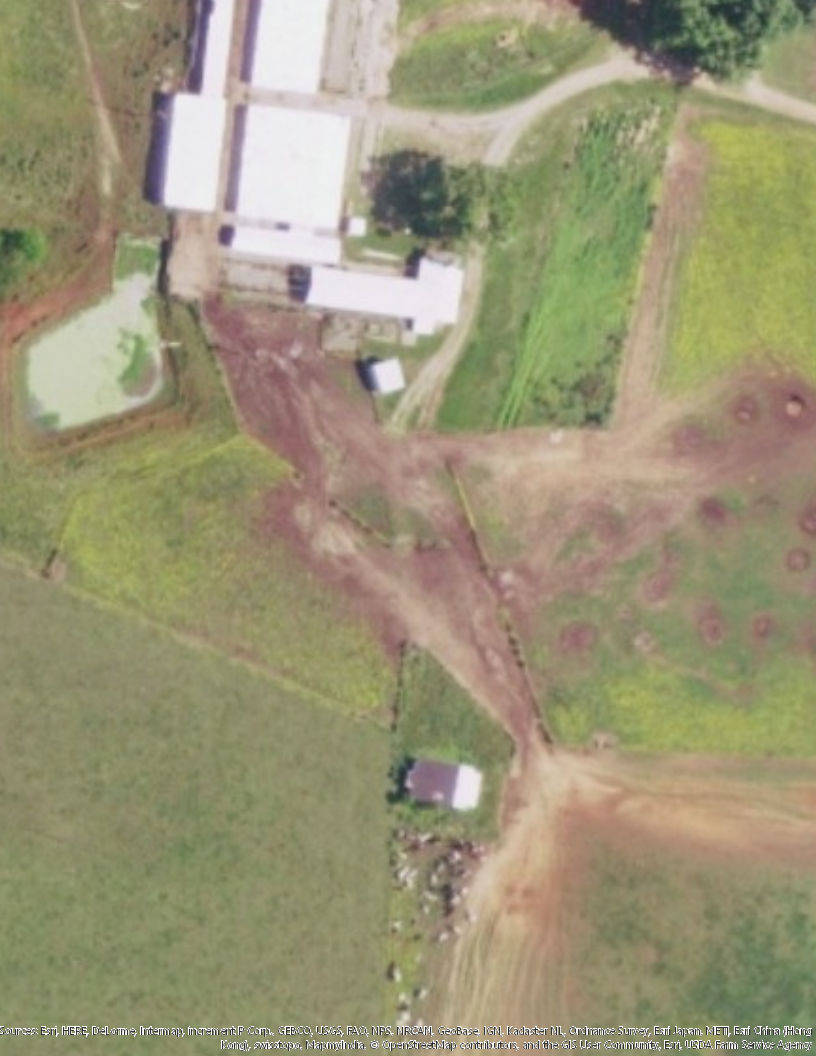cafo: (159, 1, 366, 302), (294, 248, 477, 346)
